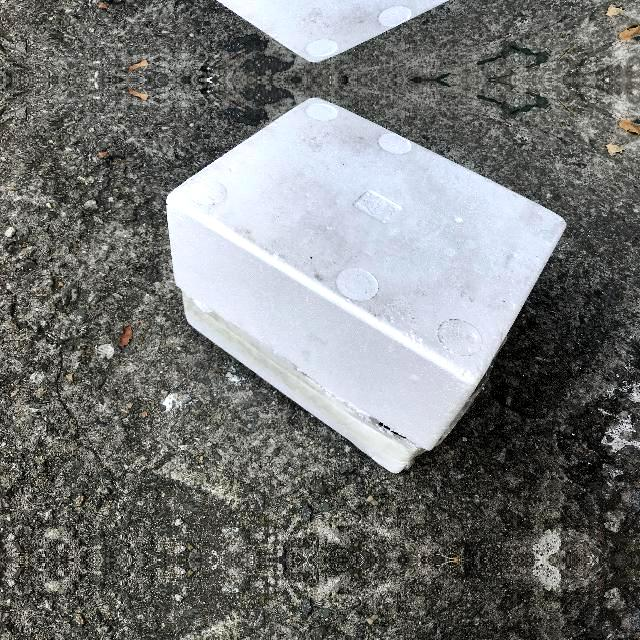Styrofoam: (166, 97, 567, 473), (166, 99, 566, 474)
